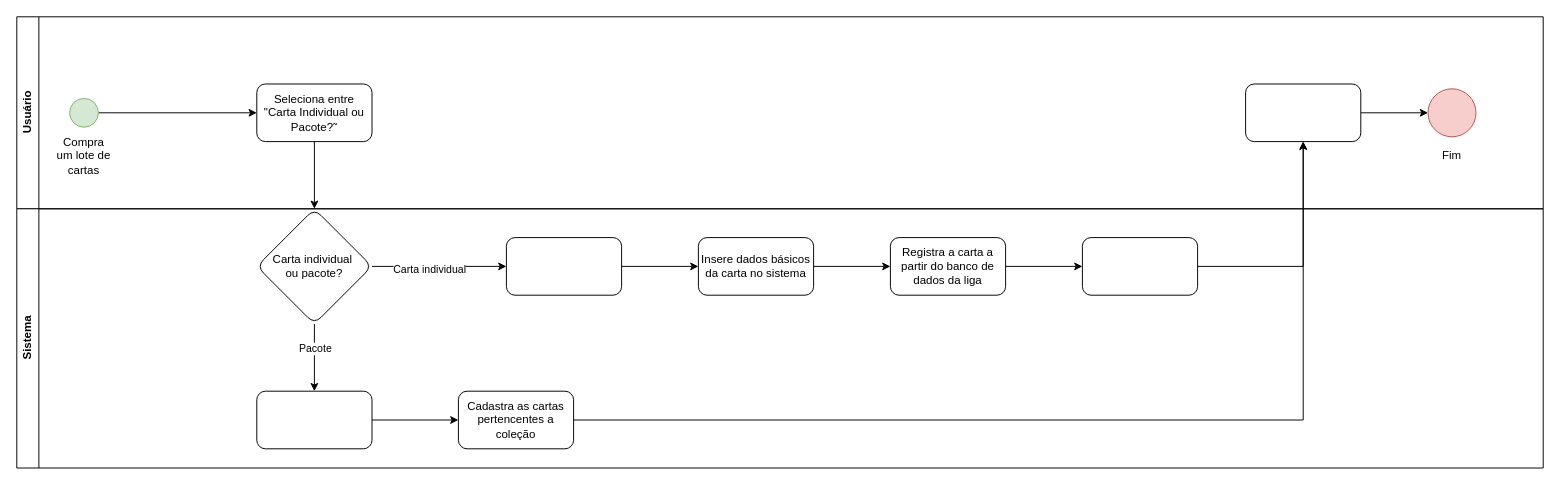
Some shapes in this 1560 by 485 pixel diagram are drawn without their labels. The centre of each missing label's shape, as x and y in pixels:
"Finaliza o cadastro da carta no sistema" goes at (1303,112).
"Insere o preço da carta" goes at (1139,266).
"Reconhece os dados do pacote com sistema OCR" goes at (314,419).
"Verifica a condição da carta com sistema OCR" goes at (563,266).
